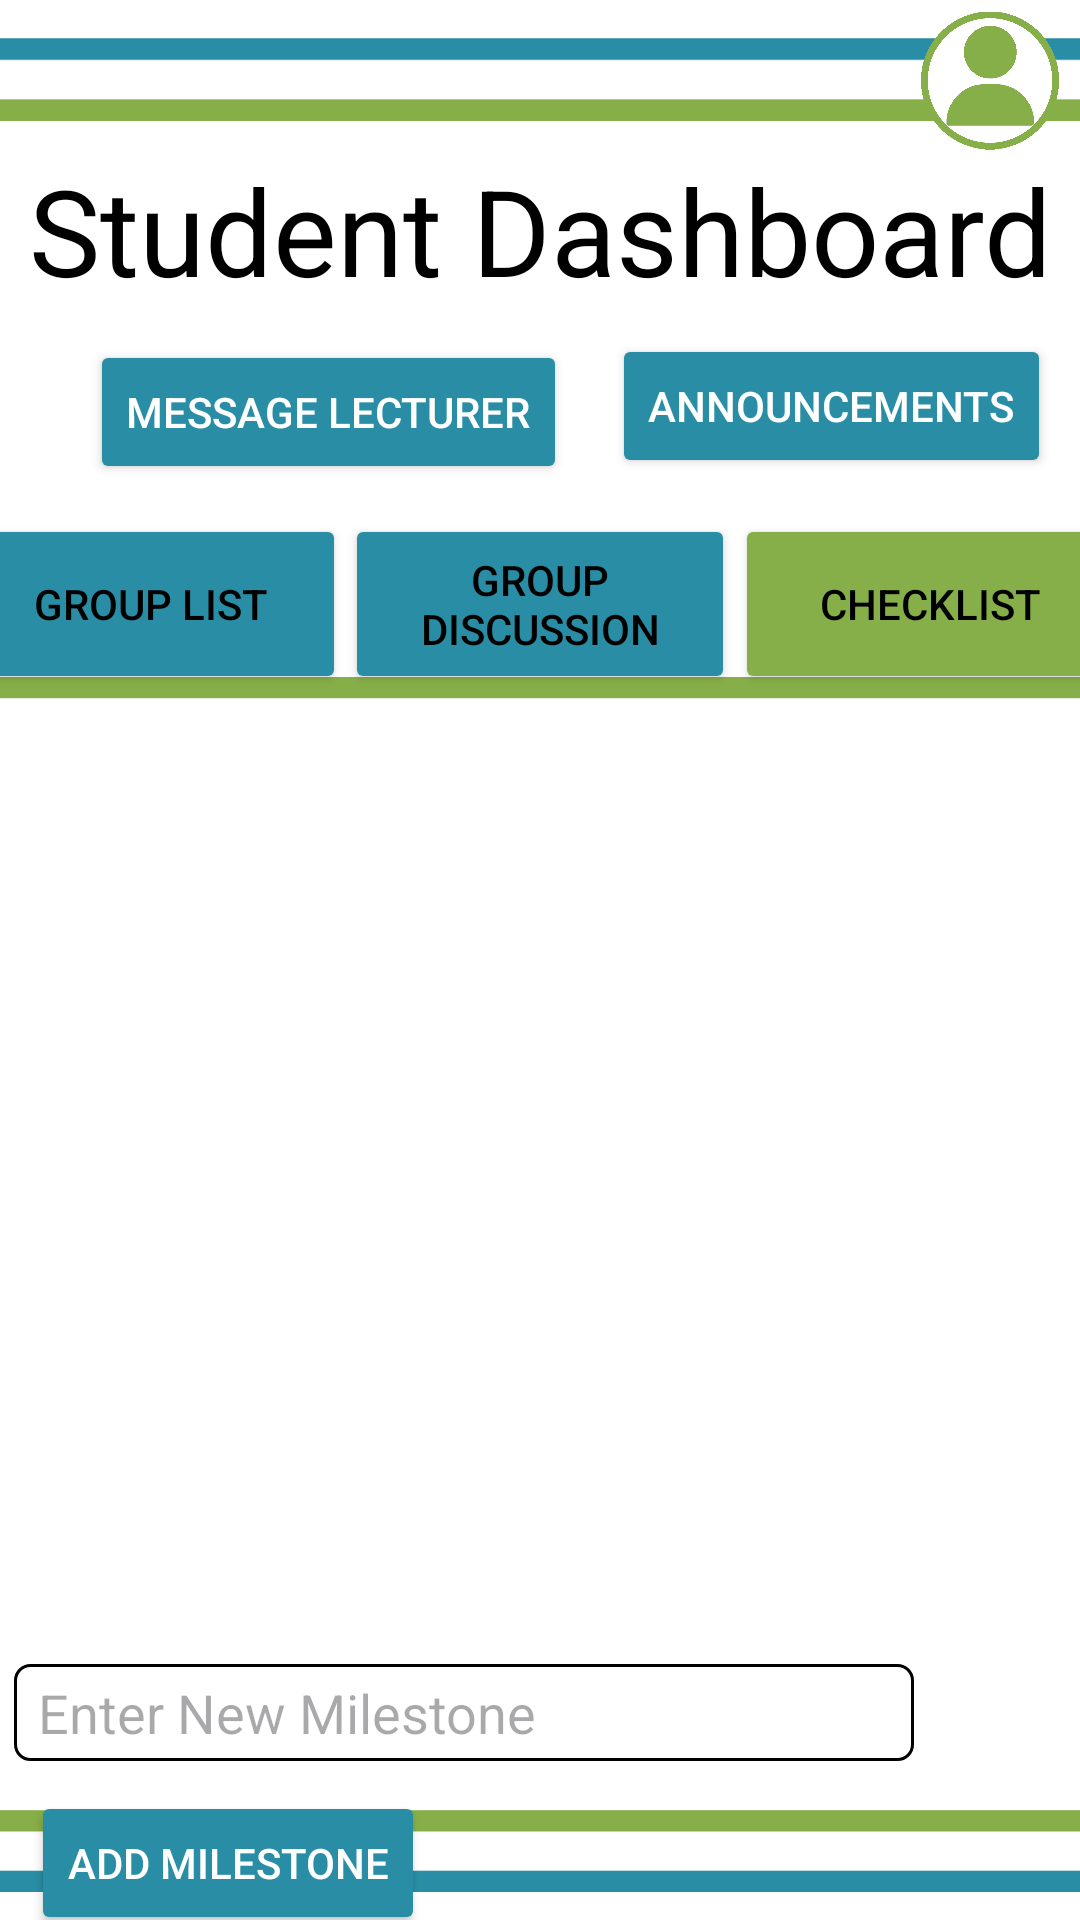

Icons on this 1080x1920 Android screen, each with its box as box(x1, y1, x2, y2):
user: box(921, 12, 1059, 150)
